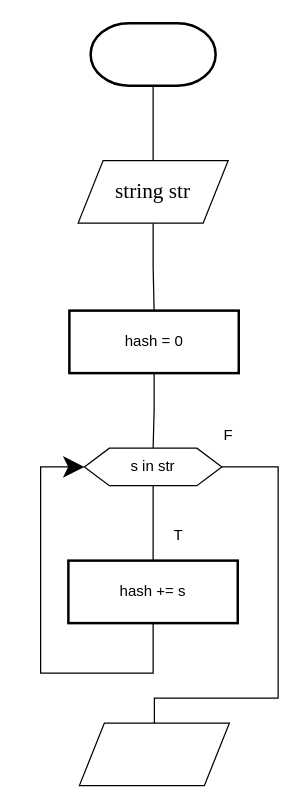
Some shapes in this 301 by 808 pixel diagram are drawn without their labels. Each missing label, with the centre of its shape:
hash: the point at 153,754
start: the point at 152,53
